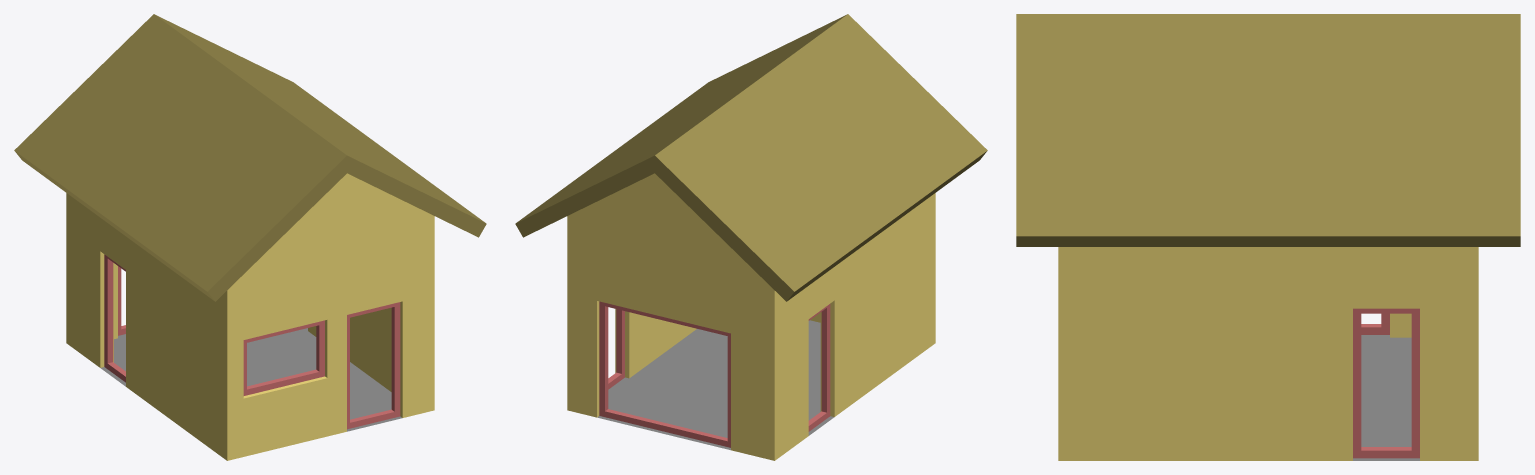
File: result.glb
3 renders of one model, left to right at view 1: azimuth 30°, elevation 25°; view 2: azimuth 150°, elevation 25°; view 3: azimuth 270°, elevation 25°, orthographic. The views are drawn at different scales.
Visible parts, largest first — view 1: 5efef561-0399-48d3-90ff-32241d46236b__undefined, 5acc58f5-7572-4537-8000-d28a66c3865f__undefined (×2), abf7c6fa-5061-40ae-b6b2-42f1dccbb862__Plane_6, d353ad73-1e99-414a-8cb4-e1d837704d7b__Box, 4c625fca-8d09-4a7d-b8b4-94381df41a2d__Box_3, 123e81c2-9d9a-4a53-9177-ce785b065110__Box_12; view 2: 5acc58f5-7572-4537-8000-d28a66c3865f__undefined (×2), 5efef561-0399-48d3-90ff-32241d46236b__undefined, abf7c6fa-5061-40ae-b6b2-42f1dccbb862__Plane_6, 51fc74be-78a1-4595-a103-f1f41d5651bf__Box_9, 123e81c2-9d9a-4a53-9177-ce785b065110__Box_12, 6def02b8-653a-464f-b9e3-f5c82b458d65__Box_15; view 3: 5acc58f5-7572-4537-8000-d28a66c3865f__undefined, 5efef561-0399-48d3-90ff-32241d46236b__undefined, abf7c6fa-5061-40ae-b6b2-42f1dccbb862__Plane_6, 6def02b8-653a-464f-b9e3-f5c82b458d65__Box_15.
Boxes of the visible parts, box(x1,y1,x2,y2) form: 5efef561-0399-48d3-90ff-32241d46236b__undefined: box(66, 173, 434, 460); 5acc58f5-7572-4537-8000-d28a66c3865f__undefined (×2): box(14, 14, 486, 301); abf7c6fa-5061-40ae-b6b2-42f1dccbb862__Plane_6: box(100, 328, 402, 431); d353ad73-1e99-414a-8cb4-e1d837704d7b__Box: box(347, 302, 400, 429); 4c625fca-8d09-4a7d-b8b4-94381df41a2d__Box_3: box(243, 320, 324, 395); 123e81c2-9d9a-4a53-9177-ce785b065110__Box_12: box(104, 254, 125, 382); 5acc58f5-7572-4537-8000-d28a66c3865f__undefined (×2): box(515, 14, 987, 301); 5efef561-0399-48d3-90ff-32241d46236b__undefined: box(567, 173, 935, 460); abf7c6fa-5061-40ae-b6b2-42f1dccbb862__Plane_6: box(597, 320, 834, 450); 51fc74be-78a1-4595-a103-f1f41d5651bf__Box_9: box(599, 301, 730, 447); 123e81c2-9d9a-4a53-9177-ce785b065110__Box_12: box(808, 304, 830, 431); 6def02b8-653a-464f-b9e3-f5c82b458d65__Box_15: box(608, 309, 624, 389); 5acc58f5-7572-4537-8000-d28a66c3865f__undefined: box(1016, 14, 1520, 246); 5efef561-0399-48d3-90ff-32241d46236b__undefined: box(1058, 247, 1478, 460); abf7c6fa-5061-40ae-b6b2-42f1dccbb862__Plane_6: box(1353, 335, 1419, 460); 6def02b8-653a-464f-b9e3-f5c82b458d65__Box_15: box(1353, 308, 1419, 458).
Size of the model in its own units: 501 by 500 by 600.
